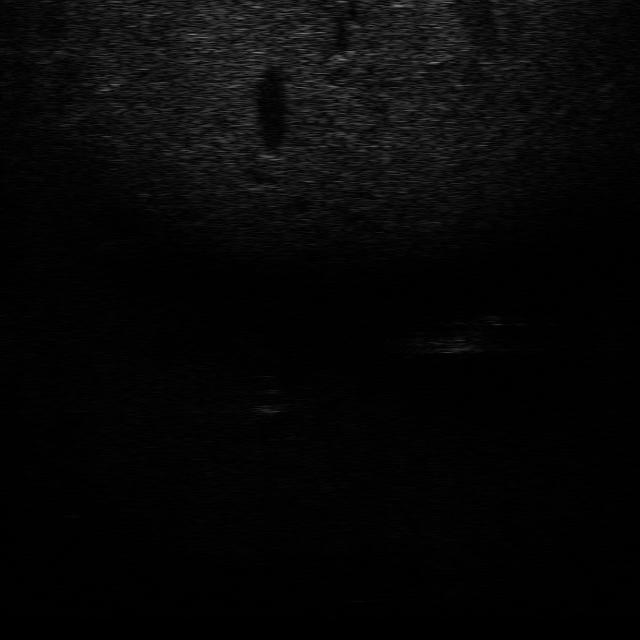ball: (251, 386, 294, 417)
human body: (401, 314, 511, 361)
